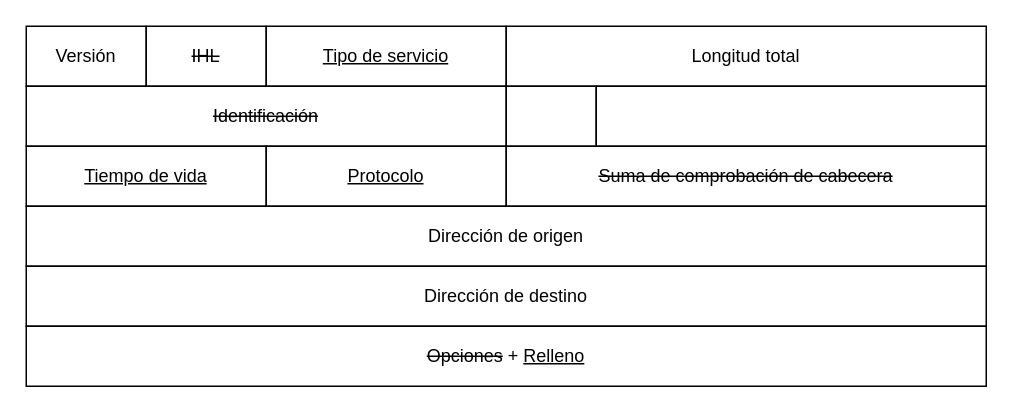
This 1013x413 diagram has some shape labels left out. Here are the shapes that lost their labels. From the top down, the centre of each, then its label:
At [550,115]: "Flags".
At [790,115]: "Desplazamiento de fragmento".
